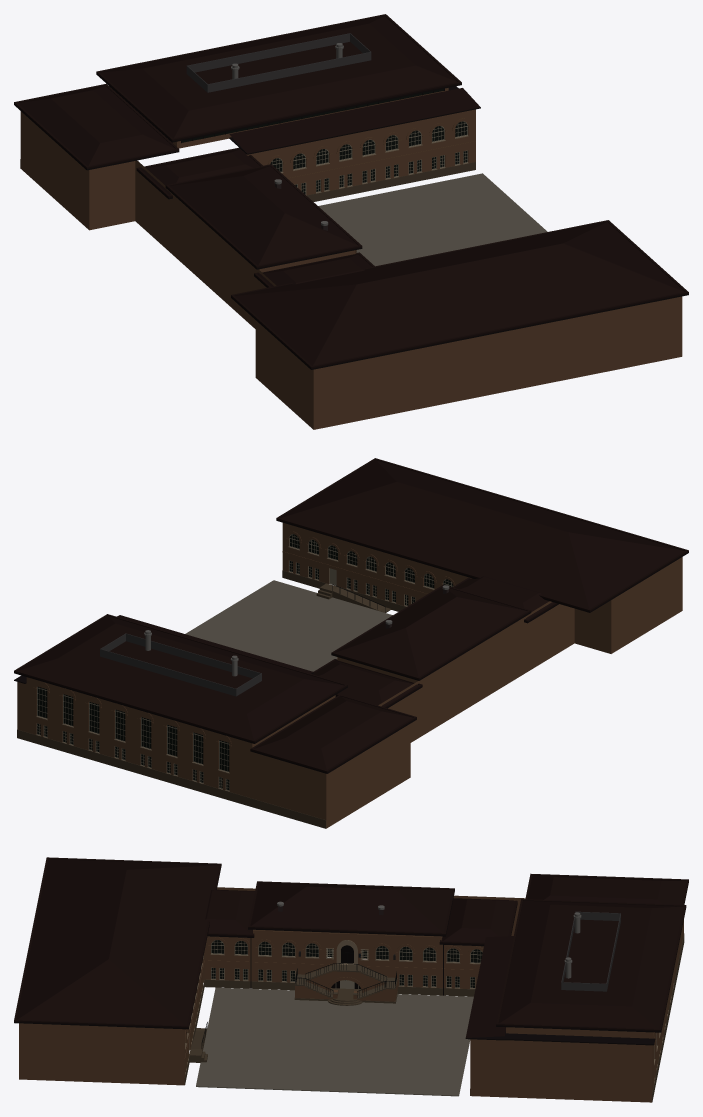
The model's file is anna-hiss-gymnasium-look.glb.
3 views of the same model, one above another, from view 1: azimuth 30°, elevation 25°; view 2: azimuth 150°, elevation 25°; view 3: azimuth 270°, elevation 25° (orthographic). The views are drawn at different scales.
Parts seen in each view (by area): view 1: n_roof_tile, n_wall_brick, n_pave_concrete, n_metal_grey, n_eave_brown, n_glass_window, n_trim_cream, n_base_concrete; view 2: n_roof_tile, n_wall_brick, n_pave_concrete, n_glass_window, n_base_concrete, n_trim_cream, n_metal_grey, n_eave_brown; view 3: n_roof_tile, n_wall_brick, n_pave_concrete, n_base_concrete, n_eave_brown, n_glass_window, n_trim_cream, n_stone_step, n_metal_grey, n_stone_trim, n_iron_black.
Part boxes in pixels (box(x1,y1,x2,y2)): n_roof_tile: box(14, 14, 688, 368); n_wall_brick: box(20, 88, 682, 429); n_pave_concrete: box(318, 173, 547, 266); n_metal_grey: box(186, 33, 371, 92); n_eave_brown: box(14, 73, 688, 369); n_glass_window: box(182, 88, 467, 193); n_trim_cream: box(271, 121, 467, 194); n_base_concrete: box(20, 159, 475, 201); n_roof_tile: box(14, 458, 688, 772); n_wall_brick: box(17, 523, 682, 828); n_pave_concrete: box(185, 580, 392, 671); n_glass_window: box(37, 534, 453, 790); n_base_concrete: box(17, 570, 405, 828); n_trim_cream: box(36, 534, 453, 790); n_metal_grey: box(100, 633, 261, 696); n_eave_brown: box(14, 519, 688, 773); n_roof_tile: box(14, 857, 688, 1037); n_wall_brick: box(19, 887, 683, 1102); n_pave_concrete: box(196, 987, 473, 1096); n_base_concrete: box(184, 933, 684, 1102); n_eave_brown: box(14, 865, 688, 1045); n_glass_window: box(211, 940, 482, 987); n_trim_cream: box(185, 940, 659, 1059); n_stone_step: box(295, 964, 397, 999); n_metal_grey: box(561, 911, 620, 991); n_stone_trim: box(185, 940, 674, 1083); n_iron_black: box(201, 952, 396, 1048).
Bounding box in the file's own units: 57.45 × 14.4 × 88.38.
